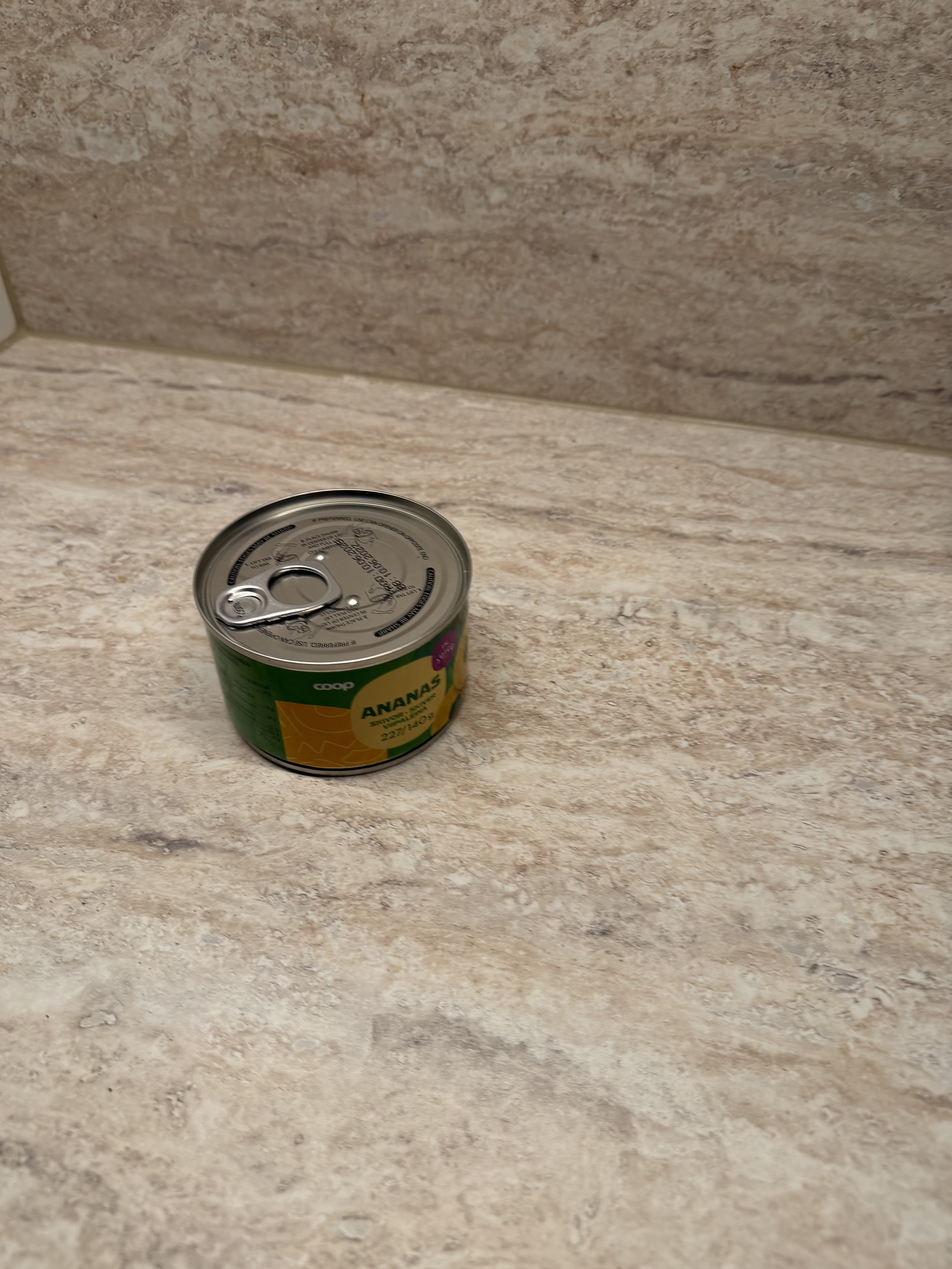Konservburk: (171, 474, 481, 788)
